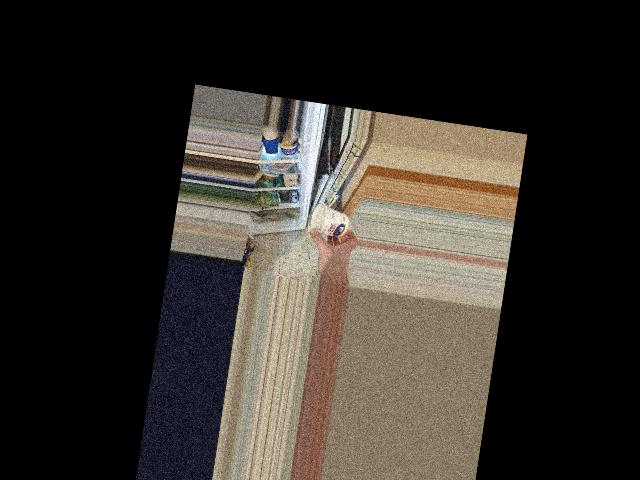cotage: (309, 202, 349, 241)
